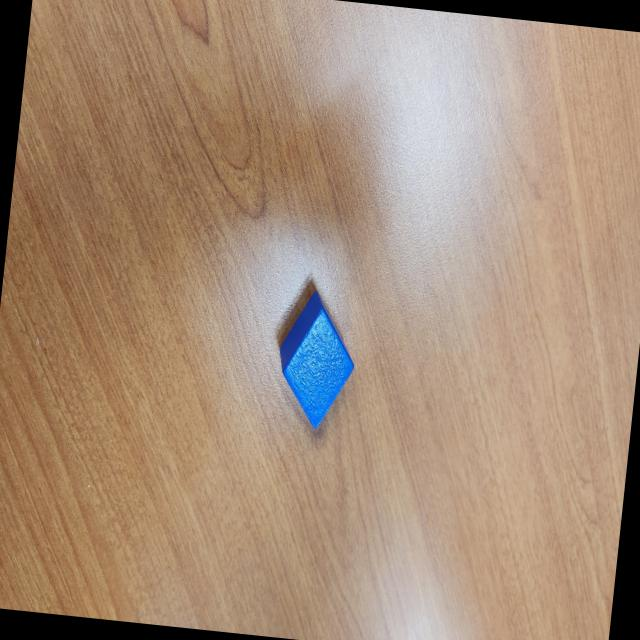blue: (271, 288, 362, 434)
